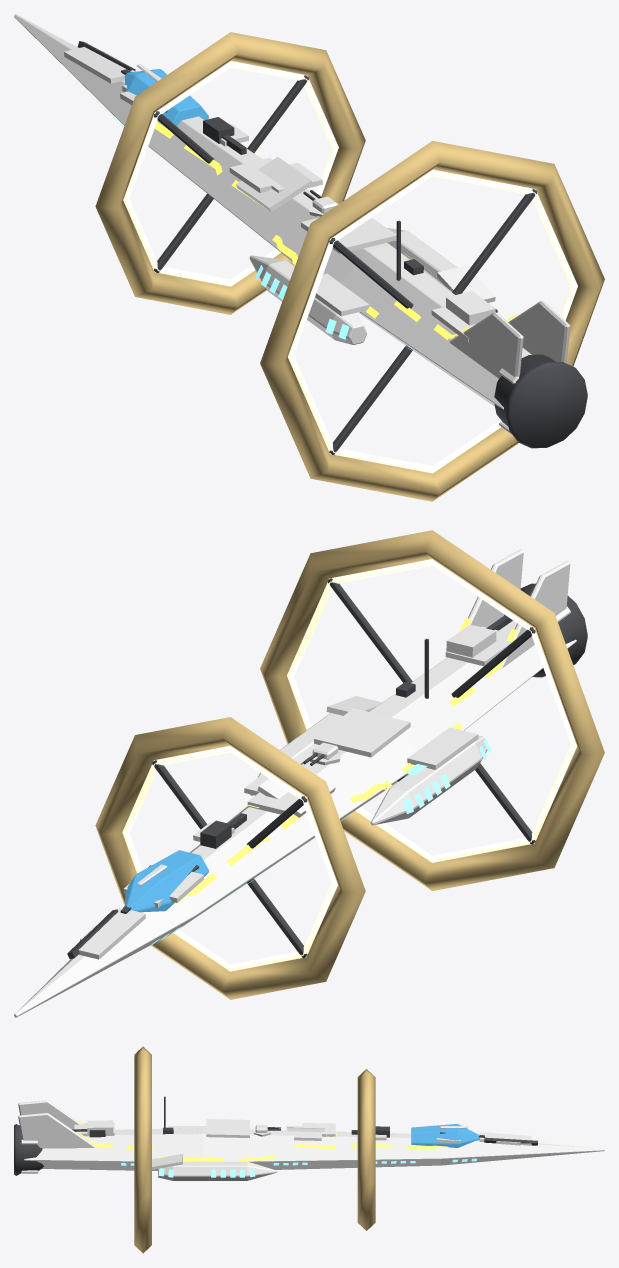
File: merkuriy.glb
3 views of the same model, one above another, from view 1: azimuth 30°, elevation 25°; view 2: azimuth 150°, elevation 25°; view 3: azimuth 270°, elevation 25° (orthographic). The views are drawn at different scales.
Visible parts, largest first — view 1: Ускоритель.001, Игла, Ускоритель, Накладные_плиты, Кожух_дюзы, Свечение_кольца.001, Свечение_кольца, Перо.001, Перо, Грузовой_модуль.001, Механика, Кабина (+8 smaller); view 2: Ускоритель.001, Игла, Ускоритель, Накладные_плиты, Свечение_кольца.001, Свечение_кольца, Грузовой_модуль.001, Кабина, Механика, Перо.001, Разметка, Перо (+8 smaller); view 3: Игла, Ускоритель.001, Накладные_плиты, Ускоритель, Перо, Грузовой_модуль, Кабина, Разметка, Кожух_дюзы, Перо.001, Механика, Решётки.
Boxes of the visible parts, x1=… form: Ускоритель.001: x1=260, y1=141, x2=604, y2=501; Игла: x1=14, y1=14, x2=531, y2=409; Ускоритель: x1=95, y1=32, x2=365, y2=314; Накладные_плиты: x1=64, y1=47, x2=495, y2=342; Кожух_дюзы: x1=494, y1=354, x2=587, y2=448; Свечение_кольца.001: x1=288, y1=169, x2=577, y2=473; Свечение_кольца: x1=123, y1=61, x2=338, y2=286; Перо.001: x1=449, y1=312, x2=523, y2=378; Перо: x1=508, y1=301, x2=570, y2=363; Грузовой_модуль.001: x1=249, y1=255, x2=366, y2=344; Механика: x1=77, y1=41, x2=497, y2=312; Кабина: x1=124, y1=69, x2=208, y2=126; Ускоритель.001: x1=260, y1=530, x2=604, y2=890; Игла: x1=14, y1=620, x2=576, y2=1017; Ускоритель: x1=95, y1=717, x2=365, y2=999; Накладные_плиты: x1=78, y1=624, x2=515, y2=959; Свечение_кольца.001: x1=287, y1=559, x2=577, y2=862; Свечение_кольца: x1=122, y1=746, x2=337, y2=971; Грузовой_модуль.001: x1=370, y1=735, x2=487, y2=825; Кабина: x1=125, y1=850, x2=208, y2=912; Механика: x1=67, y1=615, x2=512, y2=958; Перо.001: x1=499, y1=561, x2=570, y2=669; Разметка: x1=177, y1=618, x2=517, y2=903; Перо: x1=468, y1=549, x2=523, y2=627; Игла: x1=24, y1=1128, x2=604, y2=1170; Ускоритель.001: x1=134, y1=1046, x2=151, y2=1253; Накладные_плиты: x1=74, y1=1119, x2=531, y2=1169; Ускоритель: x1=357, y1=1069, x2=375, y2=1230; Перо: x1=18, y1=1113, x2=95, y2=1148; Грузовой_модуль: x1=158, y1=1161, x2=277, y2=1180; Кабина: x1=411, y1=1124, x2=479, y2=1147; Разметка: x1=77, y1=1119, x2=448, y2=1161; Кожух_дюзы: x1=14, y1=1124, x2=43, y2=1175; Перо.001: x1=18, y1=1100, x2=81, y2=1129; Механика: x1=72, y1=1096, x2=537, y2=1145; Решётки: x1=121, y1=1158, x2=476, y2=1177.
Size of the model in its own units: 0.74 by 0.74 by 1.98.
